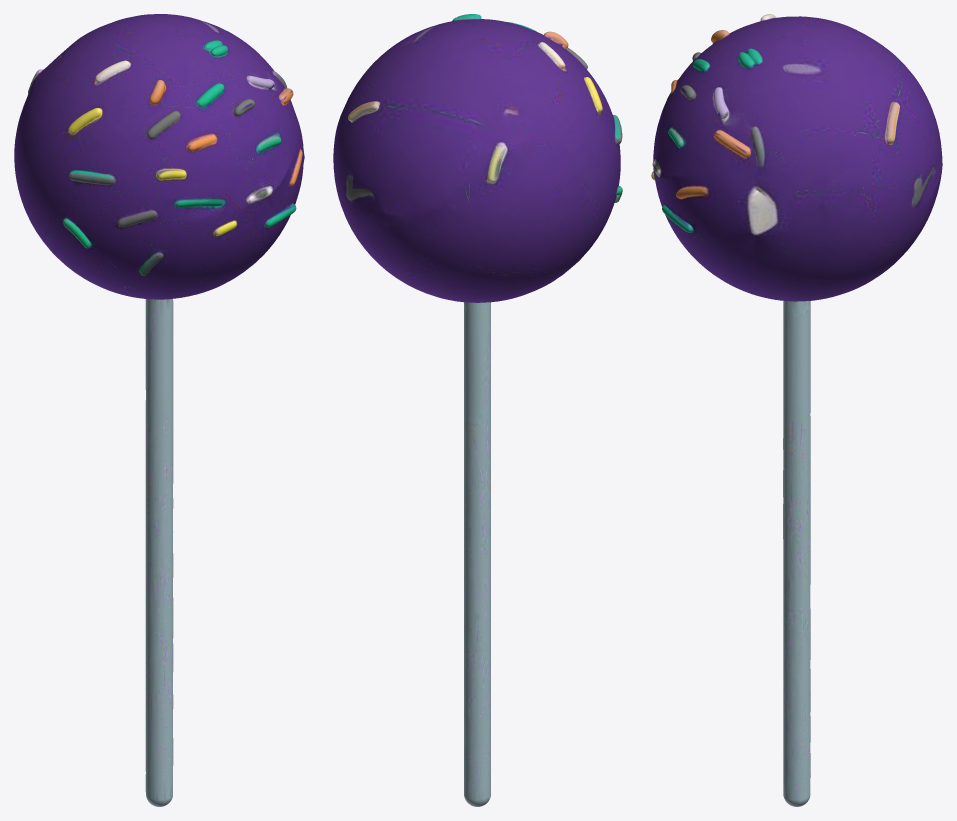
3 renders of one model, left to right at view 1: azimuth 30°, elevation 25°; view 2: azimuth 150°, elevation 25°; view 3: azimuth 270°, elevation 25°, orthographic.
Size of the model in its own units: 0.6414 by 1.9 by 0.6471.
Materials: 1 (1 with a texture image).
